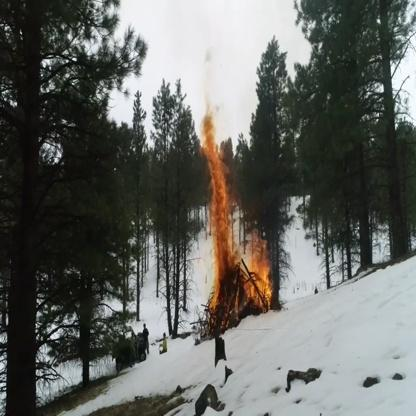Fire: (200, 102, 272, 333)
